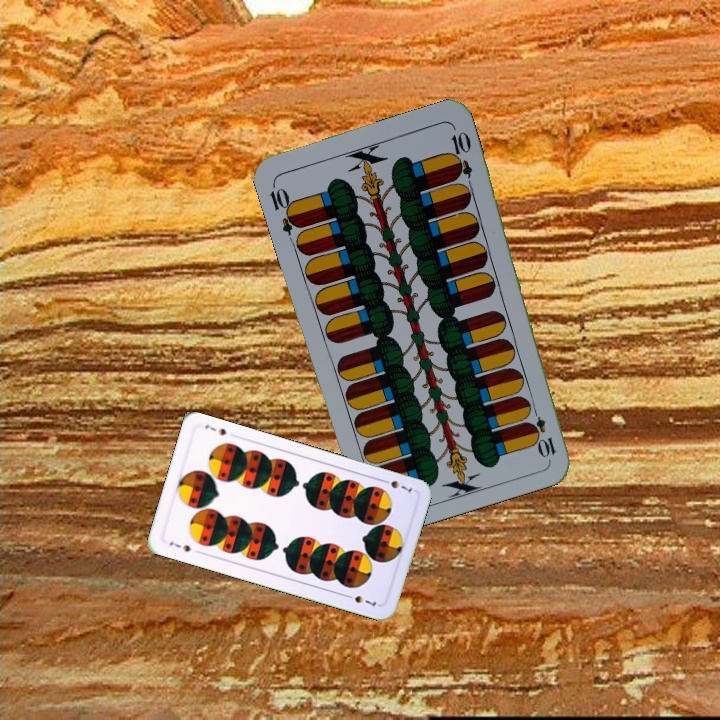E10: (265, 179, 303, 237), (526, 402, 559, 460)
S7: (377, 475, 415, 497), (165, 537, 193, 555)
